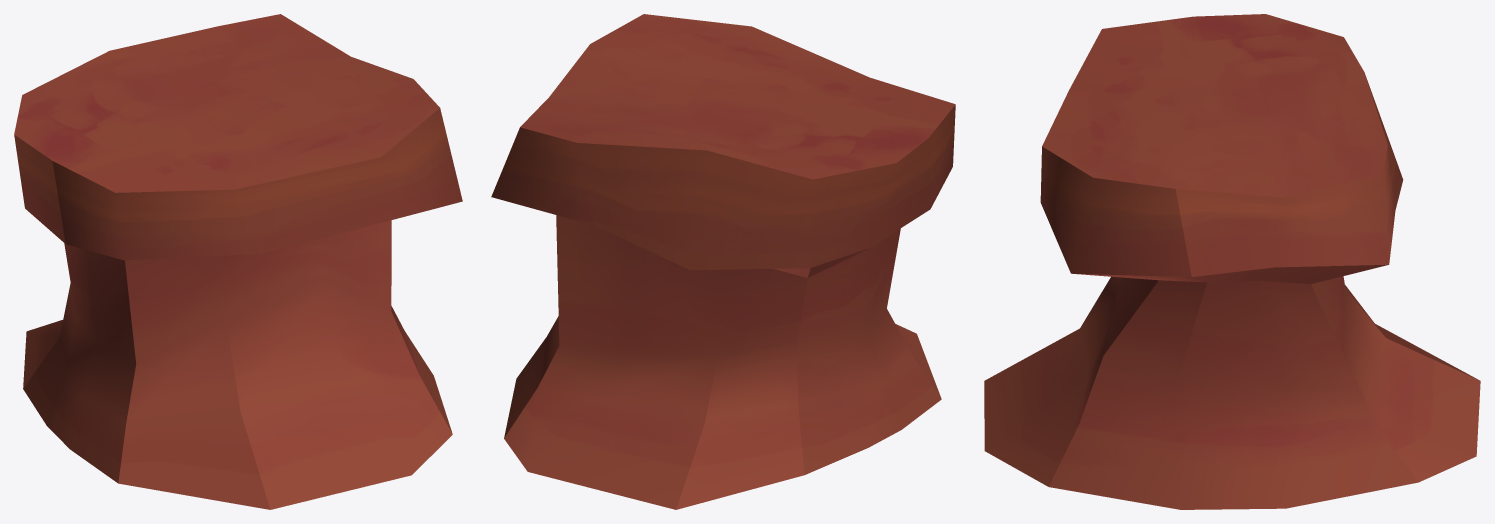
Rendered from S_Jungle_Rock_01.fbx.
3 renders of one model, left to right at view 1: azimuth 30°, elevation 25°; view 2: azimuth 150°, elevation 25°; view 3: azimuth 270°, elevation 25°, orthographic. The views are drawn at different scales.
Visible parts, largest first — view 1: Jungle_Rock_01; view 2: Jungle_Rock_01; view 3: Jungle_Rock_01.
Part boxes in pixels (x1,y1,x2,y2): Jungle_Rock_01: (14, 14, 462, 509); Jungle_Rock_01: (491, 14, 955, 509); Jungle_Rock_01: (984, 14, 1480, 509).
Bounding box in the file's own units: 543 × 434 × 607.
